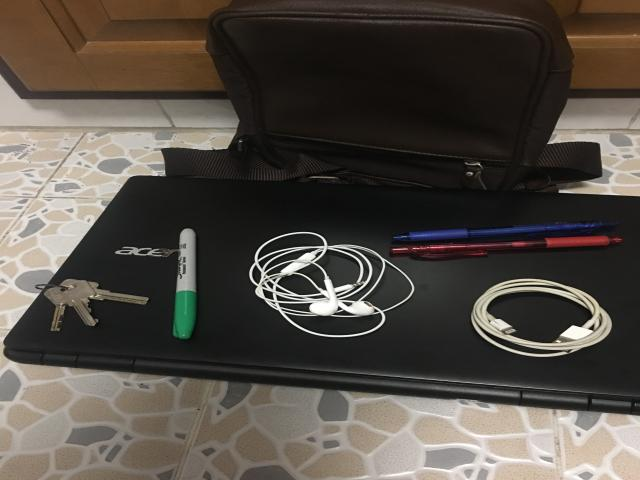Keys: (43, 279, 148, 331)
Pen: (390, 235, 623, 258), (393, 221, 617, 241), (173, 229, 197, 339)
wire: (248, 232, 415, 338), (472, 278, 612, 357)
